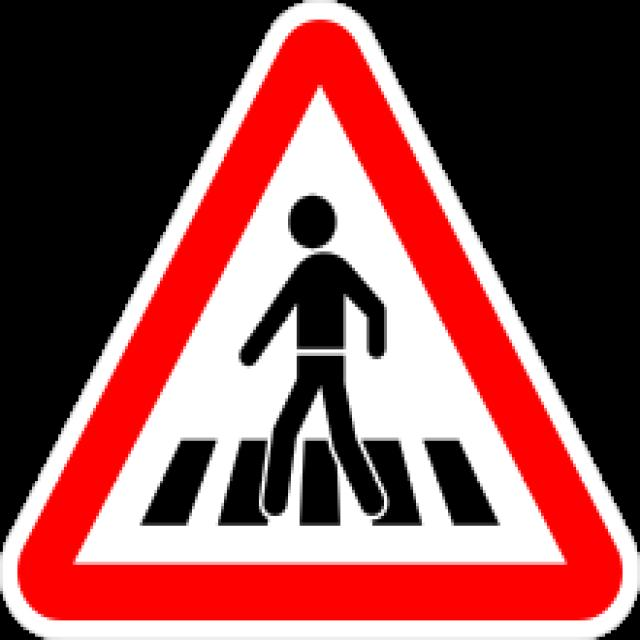Pedestrian crosswalk: (14, 13, 627, 627)
